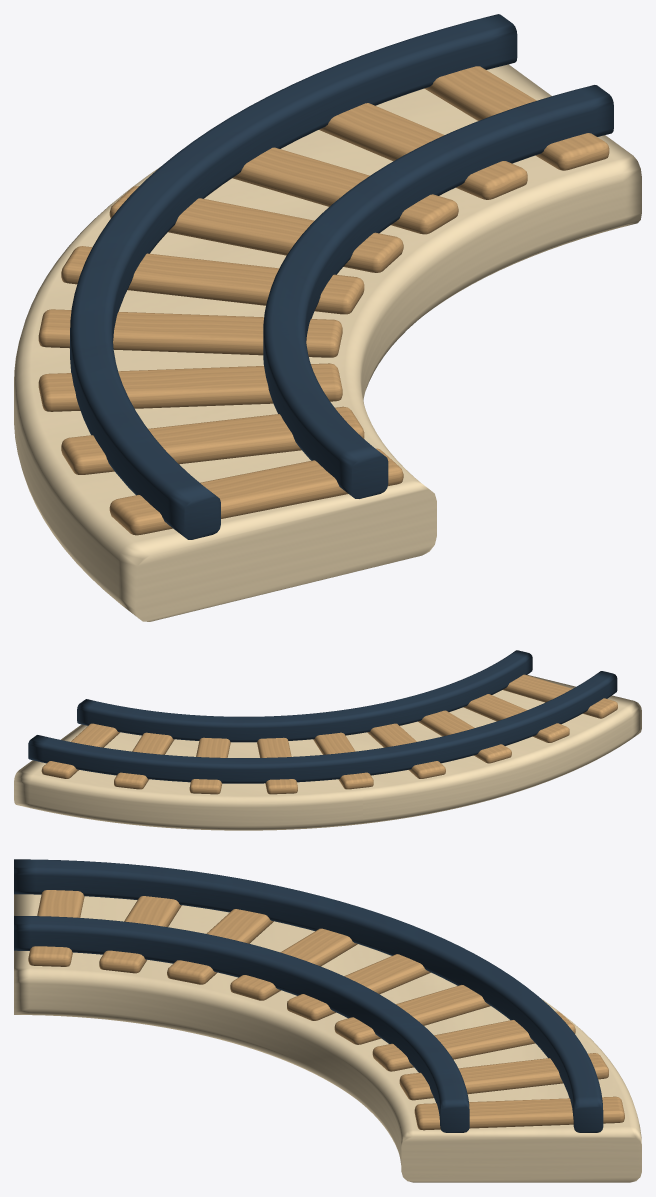
The model's file is original-track-curve.glb.
The picture shows the model from 3 angles, top to bottom: view 1: azimuth 30°, elevation 25°; view 2: azimuth 150°, elevation 25°; view 3: azimuth 270°, elevation 25°; orthographic projection. The views are drawn at different scales.
Parts seen in each view (by area): view 1: original-track-curve; view 2: original-track-curve; view 3: original-track-curve.
Boxes of the visible parts, <box> form: original-track-curve: <box>14,14,641,621</box>; original-track-curve: <box>14,650,641,830</box>; original-track-curve: <box>14,859,641,1182</box>.
Bounding box in the file's own units: 2.35 × 0.315 × 2.35.
Materials: 1 (1 with a texture image).
